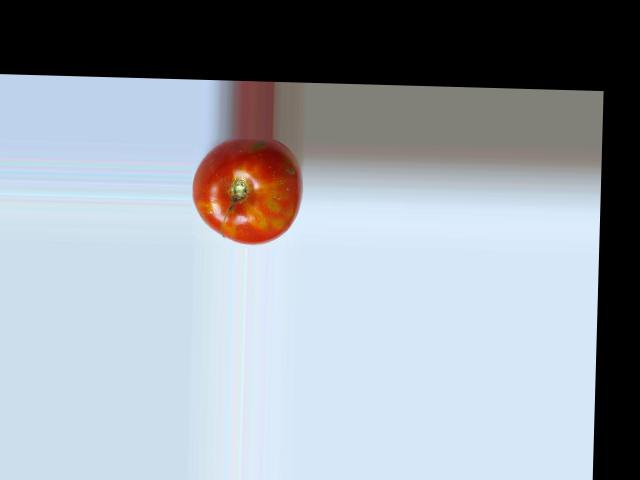tomato: (191, 136, 303, 245)
